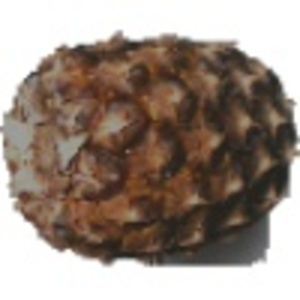abacaxi: (3, 35, 294, 263)
